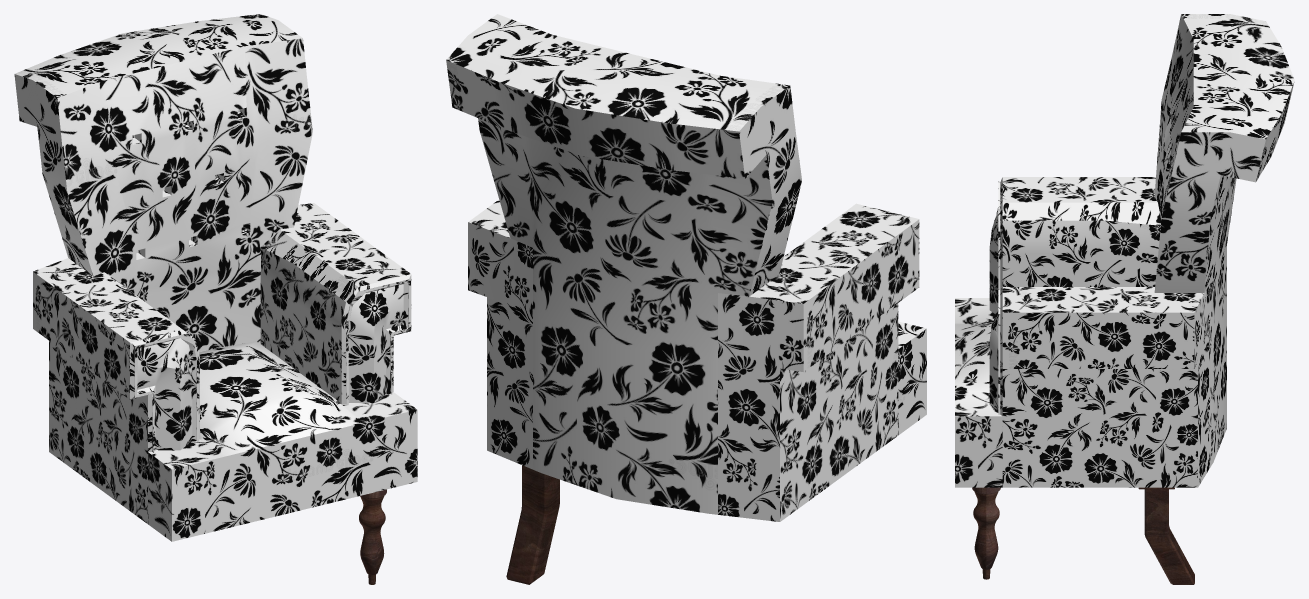
The model's file is Armchair.glb.
3 views of the same model, side by side, from view 1: azimuth 30°, elevation 25°; view 2: azimuth 150°, elevation 25°; view 3: azimuth 270°, elevation 25° (orthographic). The views are drawn at different scales.
Visible parts, largest first — view 1: Cube.003, Cube.001; view 2: Cube.003, Cube.001; view 3: Cube.003, Cube.001.
Part boxes in pixels (left/top/right/bottom): Cube.003: left=14, top=14, right=417, bottom=541; Cube.001: left=359, top=489, right=386, bottom=584; Cube.003: left=446, top=14, right=926, bottom=521; Cube.001: left=506, top=465, right=559, bottom=584; Cube.003: left=955, top=14, right=1294, bottom=487; Cube.001: left=972, top=487, right=1194, bottom=584.
Size of the model in its own units: 2.71 by 4.29 by 2.87.
2 materials, 2 textured.
